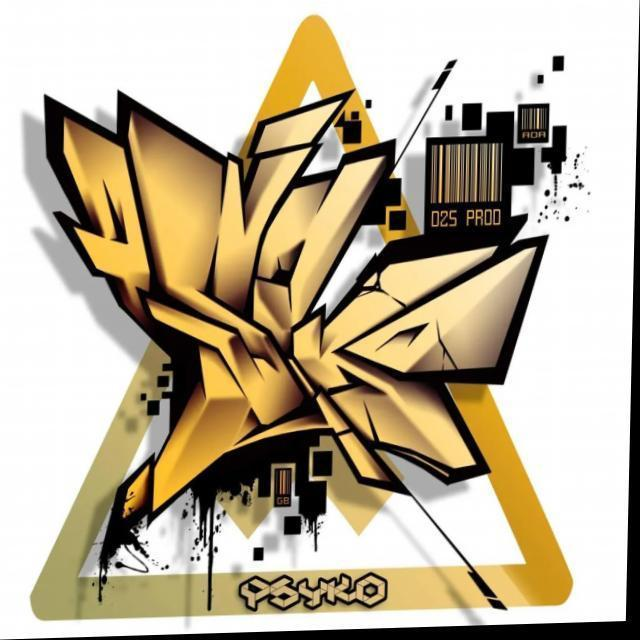nonspitting: (31, 11, 576, 618)
